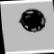correct: (16, 6, 51, 37)
